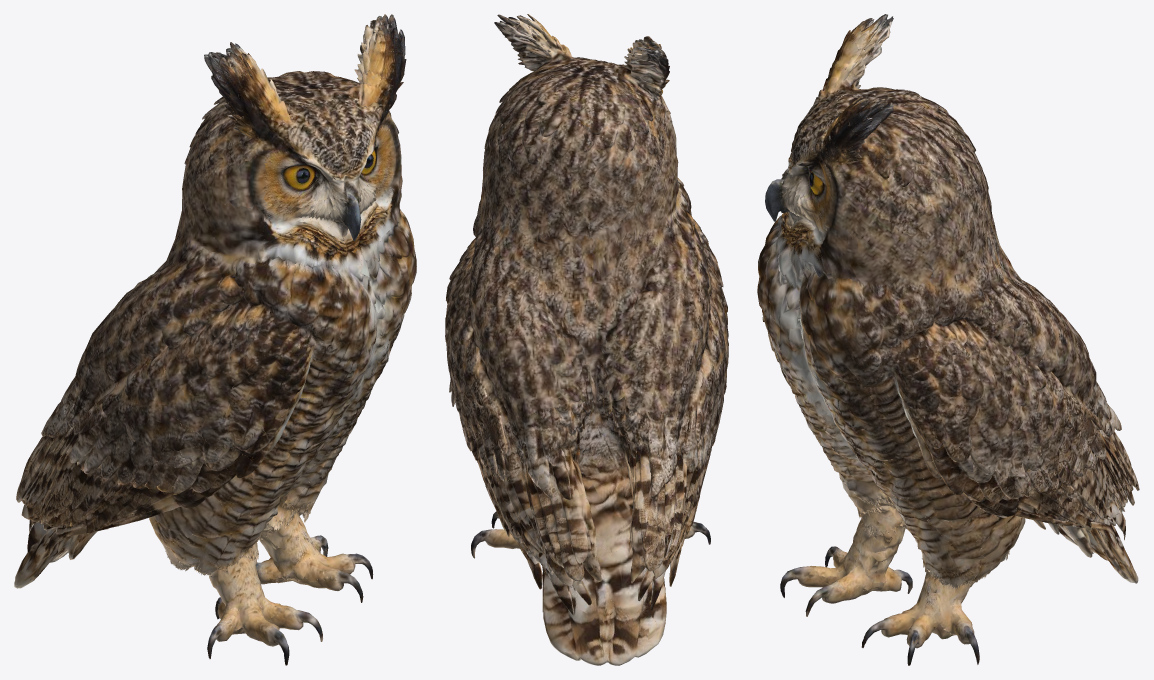
The model's file is run113_cc0_adult_anatomy_LOD_NOT_A_JUVENILE_ART_REJECTED.glb.
The picture shows the model from 3 angles, left to right: view 1: azimuth 30°, elevation 25°; view 2: azimuth 150°, elevation 25°; view 3: azimuth 270°, elevation 25°; orthographic projection. The views are drawn at different scales.
Visible parts, largest first — view 1: owl; view 2: owl; view 3: owl.
Part boxes in pixels (bbox=[...]): owl: bbox=[14, 14, 416, 665]; owl: bbox=[445, 14, 728, 665]; owl: bbox=[757, 14, 1139, 665].
Bounding box in the file's own units: 0.2888 × 0.55 × 0.3212.
1 material, 1 textured.
